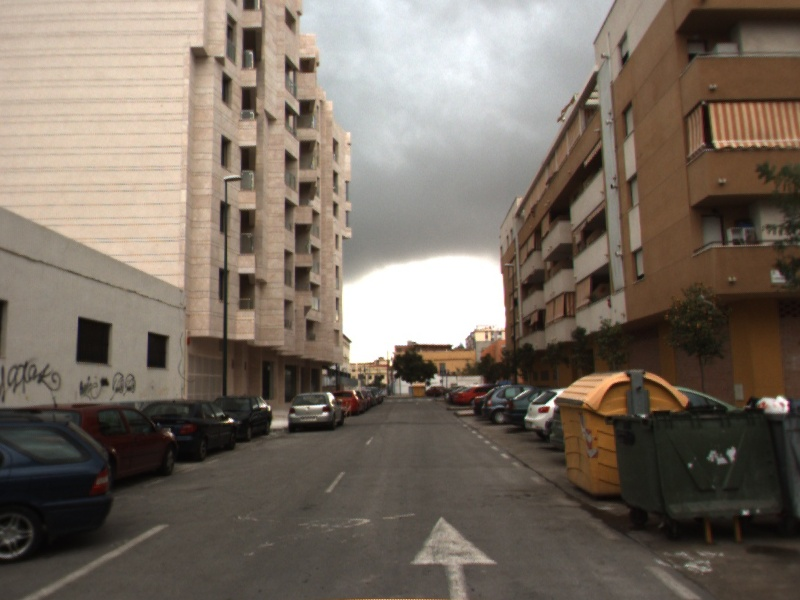STRAIGHT: (407, 513, 500, 600)
